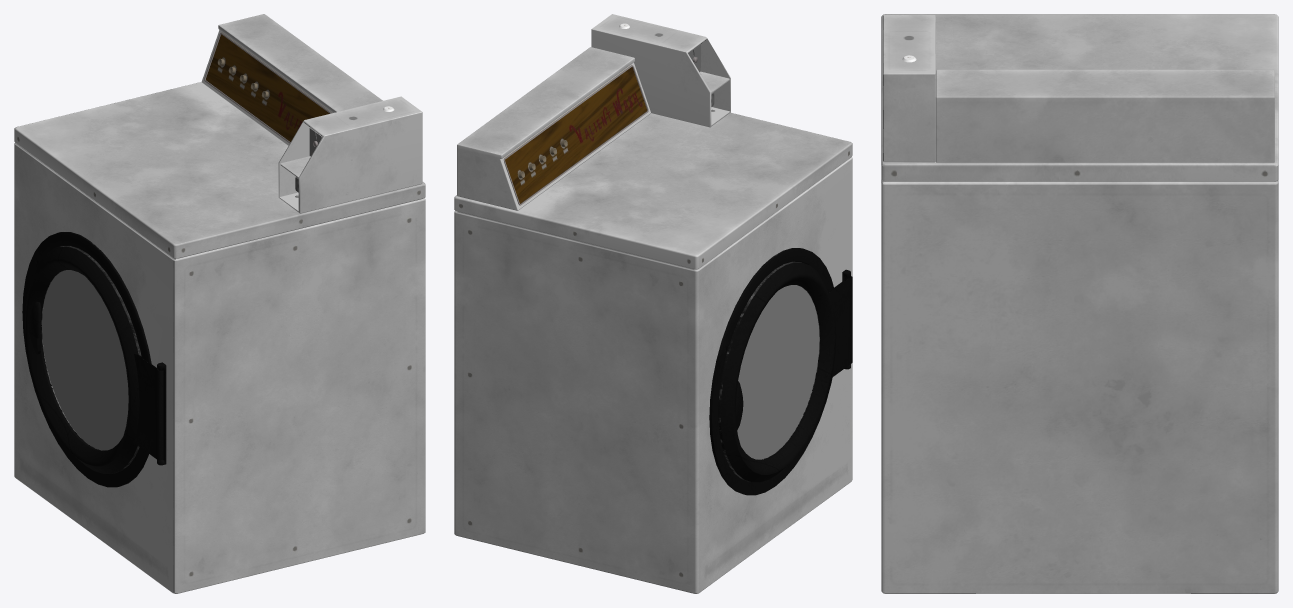
The model's file is washing_machine.fbx.
3 views of the same model, side by side, from view 1: azimuth 30°, elevation 25°; view 2: azimuth 150°, elevation 25°; view 3: azimuth 270°, elevation 25° (orthographic). The views are drawn at different scales.
Parts seen in each view (by area): view 1: Washing_machine_OBJ:Washing_Machine, Washing_machine_OBJ:glasspolySurface42; view 2: Washing_machine_OBJ:Washing_Machine, Washing_machine_OBJ:glasspolySurface42; view 3: Washing_machine_OBJ:Washing_Machine.
Boxes of the visible parts, x1,y1,x2,y2 form: Washing_machine_OBJ:Washing_Machine: (14, 14, 425, 593); Washing_machine_OBJ:glasspolySurface42: (42, 270, 128, 450); Washing_machine_OBJ:Washing_Machine: (454, 14, 852, 593); Washing_machine_OBJ:glasspolySurface42: (737, 285, 819, 459); Washing_machine_OBJ:Washing_Machine: (881, 14, 1278, 593).
Bounding box in the file's own units: 72.51 × 111 × 76.58.
